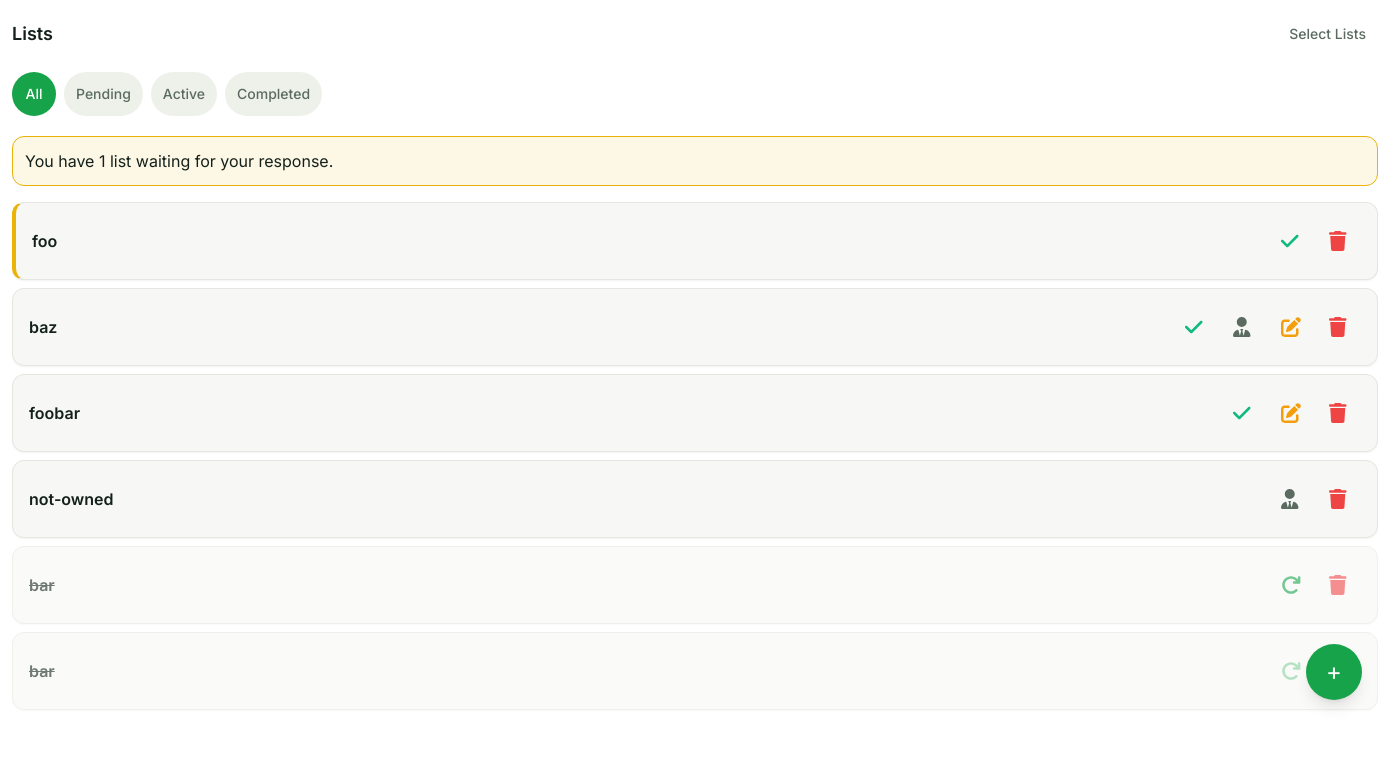
Scenario: ListsContainer › filters to only completed lists when Completed chip is clicked
Click the button with test id "filter-completed". click: (274, 94)
box: x1=225 y1=72 x2=322 y2=116
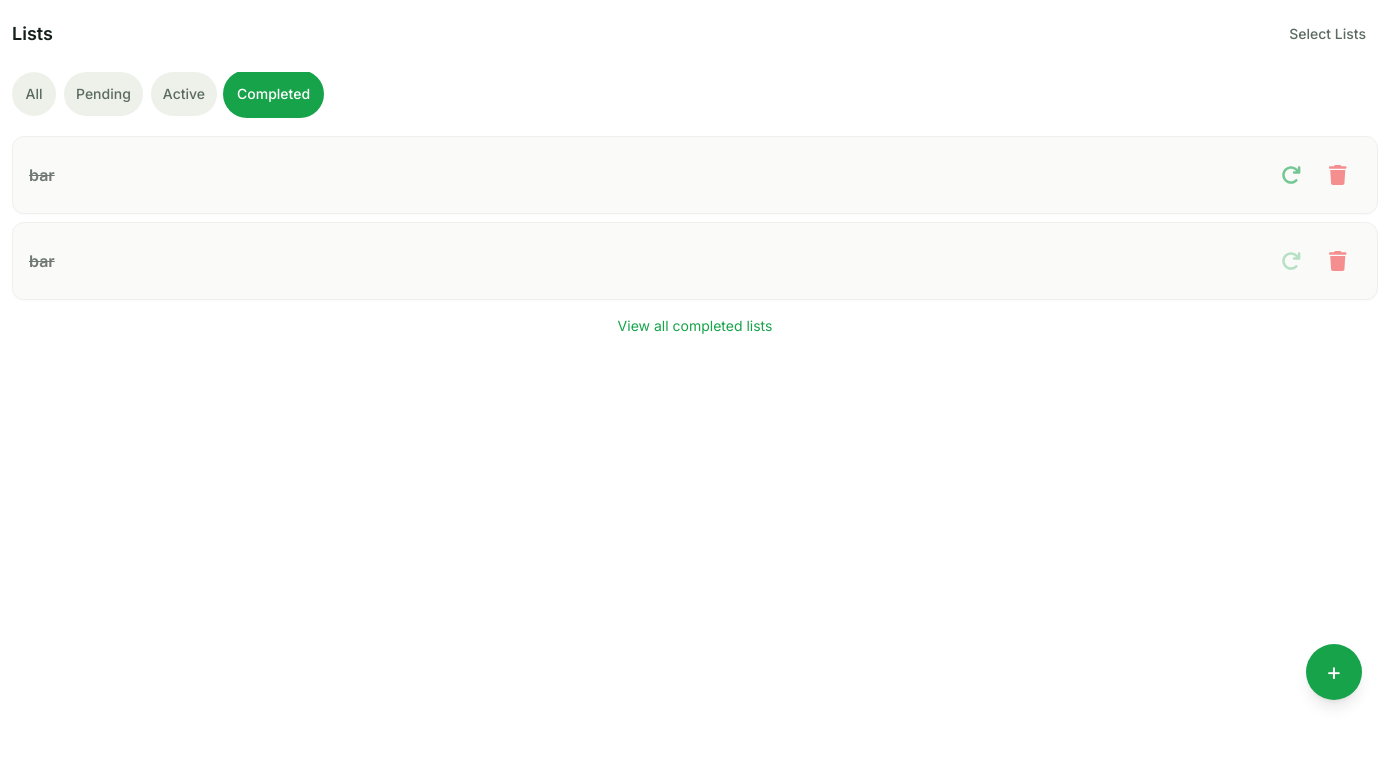
Check: the button with test id "list-id2" is shown, box x1=12 y1=136 x2=1378 y2=214
Check: the button with test id "list-id-pending" is gone
Check: the button with test id "list-id5" is gone
